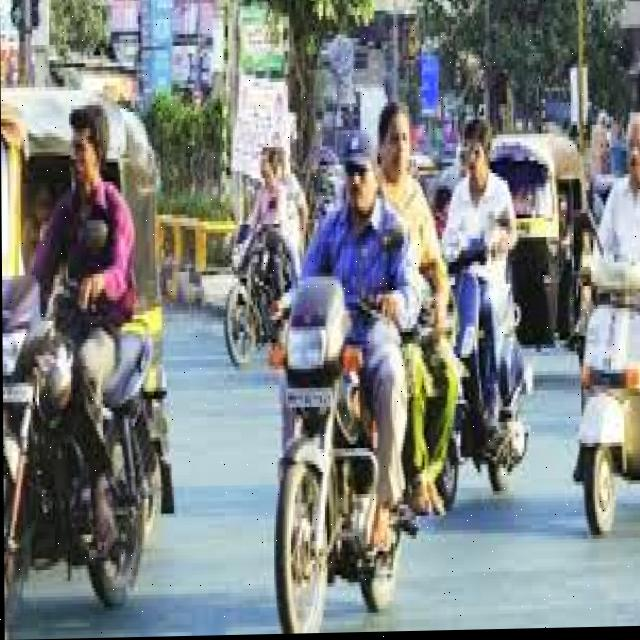without helmet: (338, 89, 426, 222), (63, 88, 116, 212), (455, 109, 497, 195)
